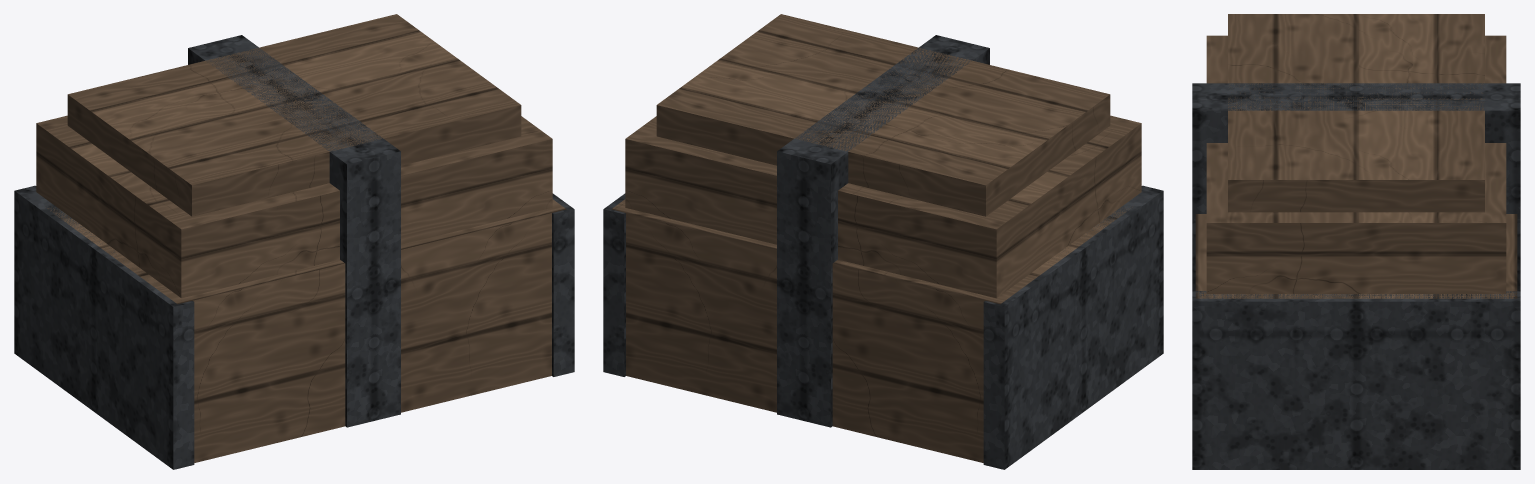
File: chest.glb
3 views of the same model, side by side, from view 1: azimuth 30°, elevation 25°; view 2: azimuth 150°, elevation 25°; view 3: azimuth 270°, elevation 25° (orthographic). The views are drawn at different scales.
Parts seen in each view (by area): view 1: chest; view 2: chest; view 3: chest.
Boxes of the visible parts, x1,y1,x2,y2 form: chest: [14, 14, 574, 469]; chest: [603, 14, 1163, 469]; chest: [1192, 14, 1520, 469].
Size of the model in its own units: 1.34 by 0.84 by 0.92.
2 materials, 2 textured.
